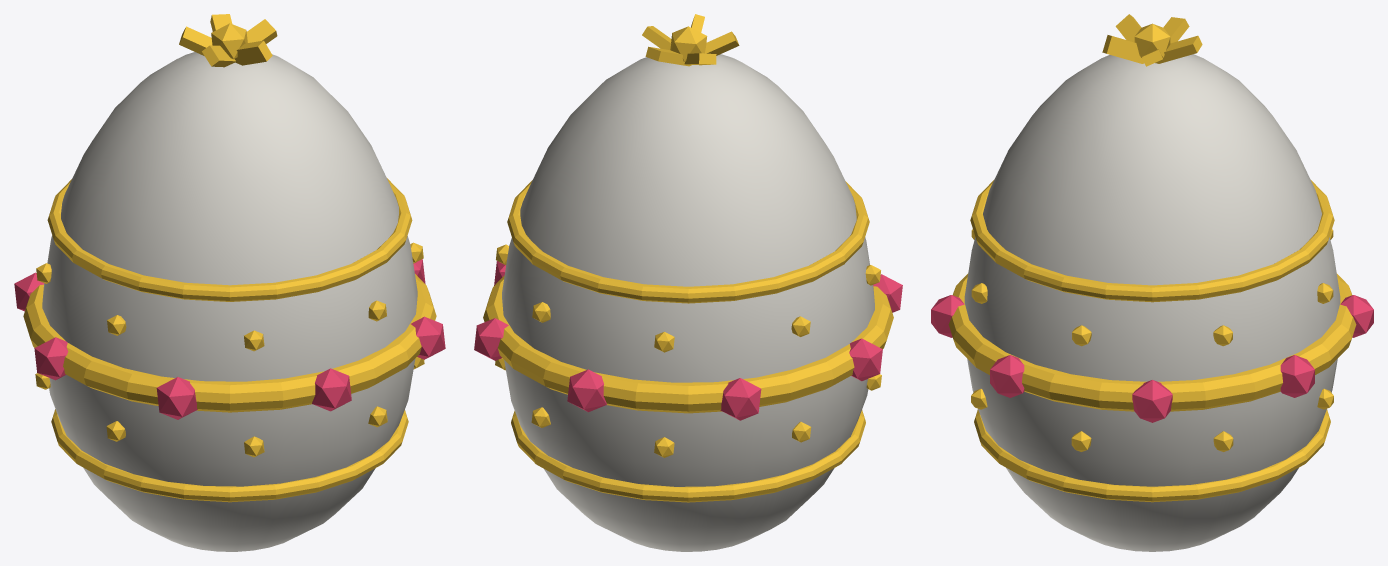
The model's file is magicegg-Dnn8rqaF.glb.
The picture shows the model from 3 angles, left to right: view 1: azimuth 30°, elevation 25°; view 2: azimuth 150°, elevation 25°; view 3: azimuth 270°, elevation 25°; orthographic projection.
Visible parts, largest first — view 1: shell, trim; view 2: shell, trim; view 3: shell, trim.
Boxes of the visible parts, x1,y1,x2,y2 form: shell: (42, 52, 417, 551); trim: (14, 14, 445, 502); shell: (502, 54, 874, 551); trim: (474, 14, 902, 502); shell: (964, 54, 1340, 551); trim: (931, 14, 1373, 502).
Bounding box in the file's own units: 0.8403 × 1.07 × 0.8362.
